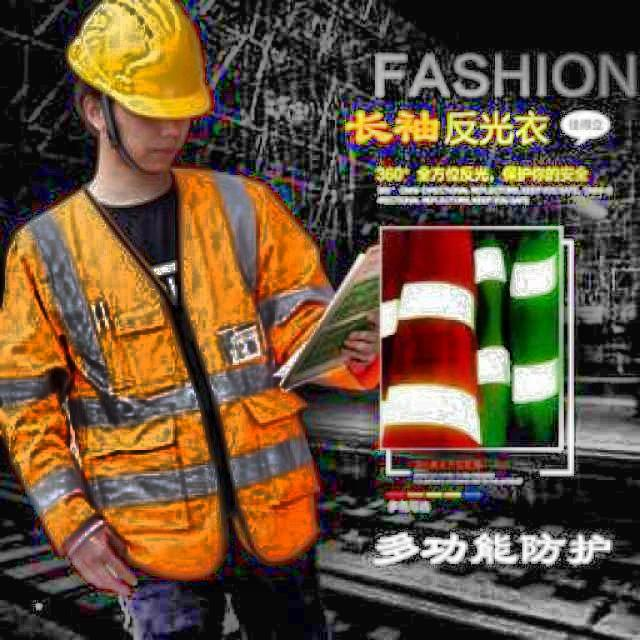safety_helmet: (68, 0, 213, 123)
safety_jacket: (0, 163, 384, 598)
